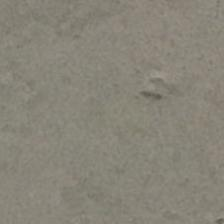Non_Crack: (16, 13, 224, 224)
